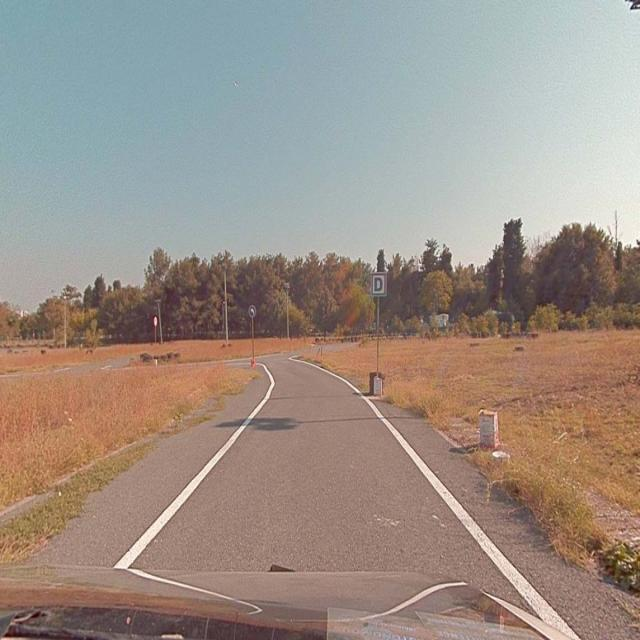durak: (371, 272, 386, 296)
sol: (248, 304, 256, 316)
